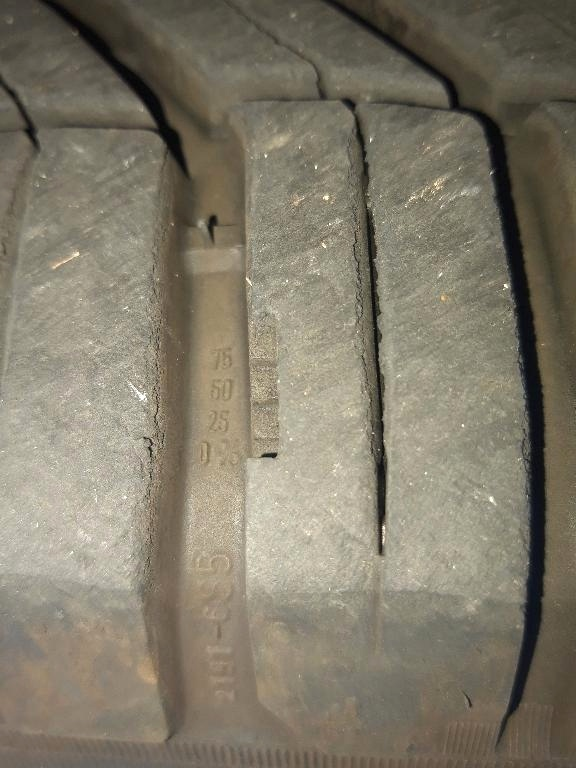temoin:90: (236, 279, 288, 474)
